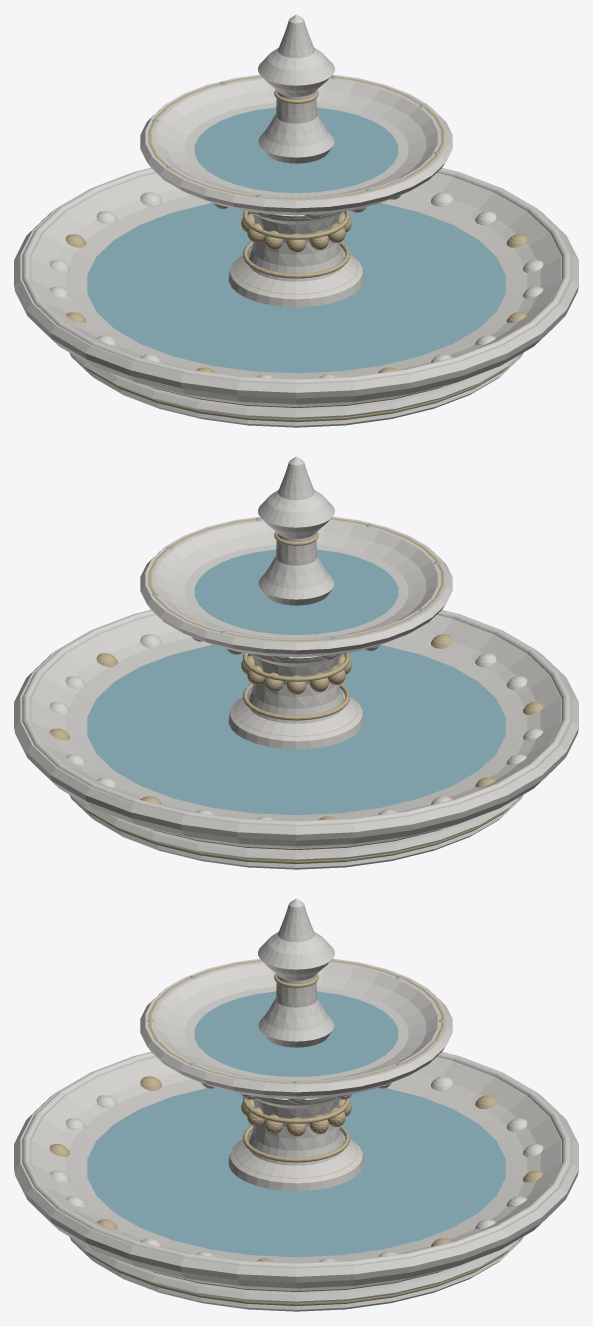
Rendered from garden_fountain.glb.
3 views of the same model, one above another, from view 1: azimuth 30°, elevation 25°; view 2: azimuth 150°, elevation 25°; view 3: azimuth 270°, elevation 25° (orthographic).
Visible parts, largest first — view 1: B04_deep_azure_water_surface, B01_foliated_primary_basin, D01_upper_bowl, D03_upper_water_disk, C01_reeded_pedestal, A01_six_step_plinth, E01_fluted_crown_and_finial, B02_basin_lip_beading, A02_base_gold_inlay, D02_upper_gilt_bead, C02_reed_gold_band_01, C02_reed_gold_band_02; view 2: B04_deep_azure_water_surface, B01_foliated_primary_basin, D01_upper_bowl, D03_upper_water_disk, C01_reeded_pedestal, A01_six_step_plinth, E01_fluted_crown_and_finial, B02_basin_lip_beading, A02_base_gold_inlay, D02_upper_gilt_bead, C02_reed_gold_band_01, C02_reed_gold_band_02; view 3: B04_deep_azure_water_surface, B01_foliated_primary_basin, D01_upper_bowl, D03_upper_water_disk, C01_reeded_pedestal, A01_six_step_plinth, E01_fluted_crown_and_finial, B02_basin_lip_beading, A02_base_gold_inlay, D02_upper_gilt_bead, C02_reed_gold_band_01, C02_reed_gold_band_02.
Part boxes in pixels (x1,y1,x2,y2): B04_deep_azure_water_surface: [87, 203, 505, 373]; B01_foliated_primary_basin: [14, 168, 578, 407]; D01_upper_bowl: [140, 74, 452, 215]; D03_upper_water_disk: [194, 107, 398, 192]; C01_reeded_pedestal: [228, 211, 364, 307]; A01_six_step_plinth: [69, 353, 523, 427]; E01_fluted_crown_and_finial: [258, 14, 334, 163]; B02_basin_lip_beading: [22, 168, 570, 383]; A02_base_gold_inlay: [70, 353, 522, 421]; D02_upper_gilt_bead: [148, 76, 444, 199]; C02_reed_gold_band_01: [243, 241, 349, 278]; C02_reed_gold_band_02: [243, 210, 349, 239]; B04_deep_azure_water_surface: [87, 645, 505, 815]; B01_foliated_primary_basin: [14, 610, 578, 849]; D01_upper_bowl: [140, 516, 452, 657]; D03_upper_water_disk: [194, 549, 398, 634]; C01_reeded_pedestal: [228, 653, 364, 749]; A01_six_step_plinth: [69, 795, 523, 869]; E01_fluted_crown_and_finial: [258, 456, 334, 605]; B02_basin_lip_beading: [22, 610, 570, 825]; A02_base_gold_inlay: [70, 795, 522, 863]; D02_upper_gilt_bead: [148, 518, 444, 641]; C02_reed_gold_band_01: [243, 683, 349, 720]; C02_reed_gold_band_02: [243, 652, 349, 681]; B04_deep_azure_water_surface: [87, 1088, 505, 1257]; B01_foliated_primary_basin: [14, 1052, 578, 1291]; D01_upper_bowl: [140, 958, 452, 1099]; D03_upper_water_disk: [194, 991, 398, 1076]; C01_reeded_pedestal: [228, 1096, 364, 1191]; A01_six_step_plinth: [69, 1237, 523, 1311]; E01_fluted_crown_and_finial: [258, 898, 334, 1047]; B02_basin_lip_beading: [22, 1052, 570, 1267]; A02_base_gold_inlay: [70, 1237, 522, 1305]; D02_upper_gilt_bead: [148, 960, 444, 1083]; C02_reed_gold_band_01: [243, 1125, 349, 1162]; C02_reed_gold_band_02: [243, 1097, 349, 1123].
Size of the model in its own units: 9.84 by 6.07 by 9.79.
